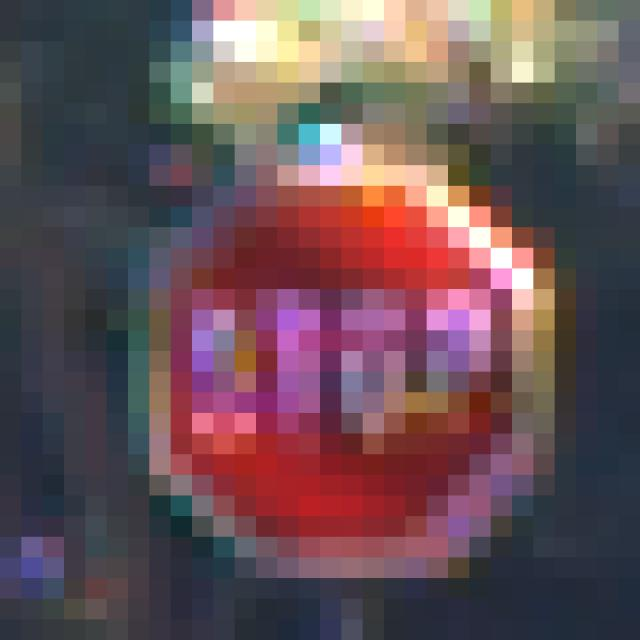STOP: (108, 125, 534, 538)
